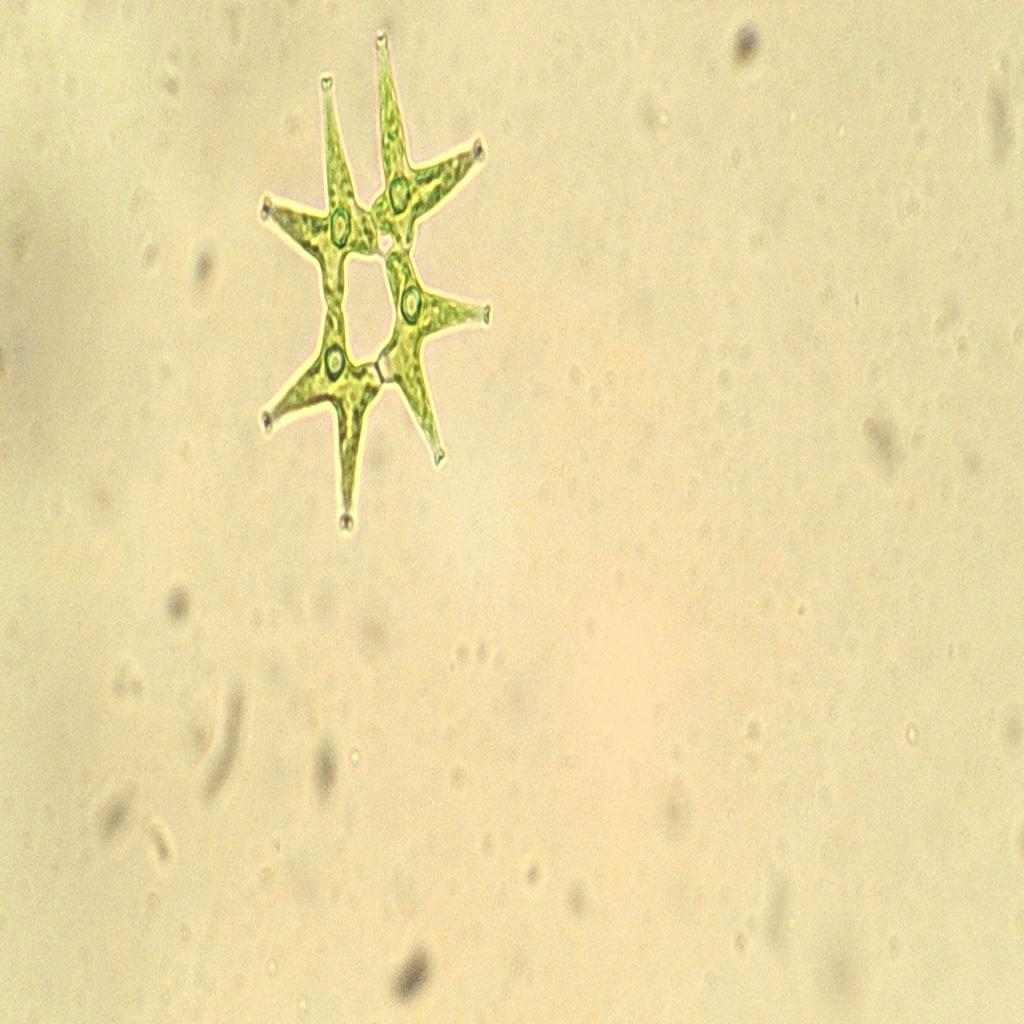Pediastrum_CF: (246, 20, 500, 549)
